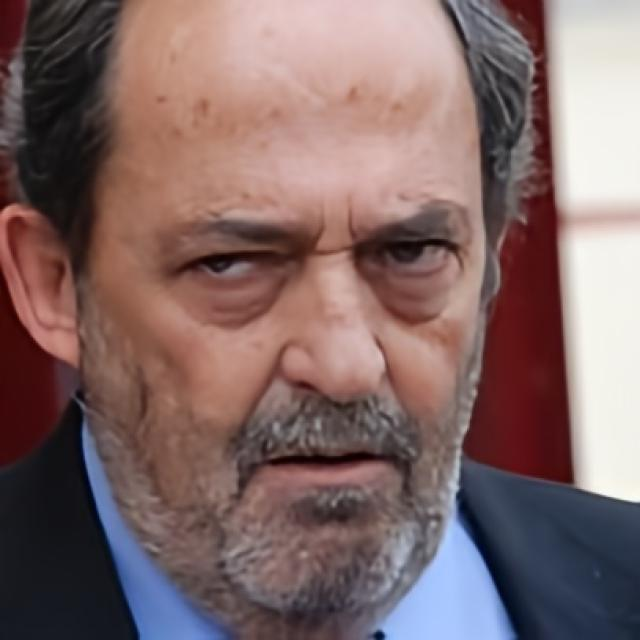anger: (91, 28, 481, 593)
